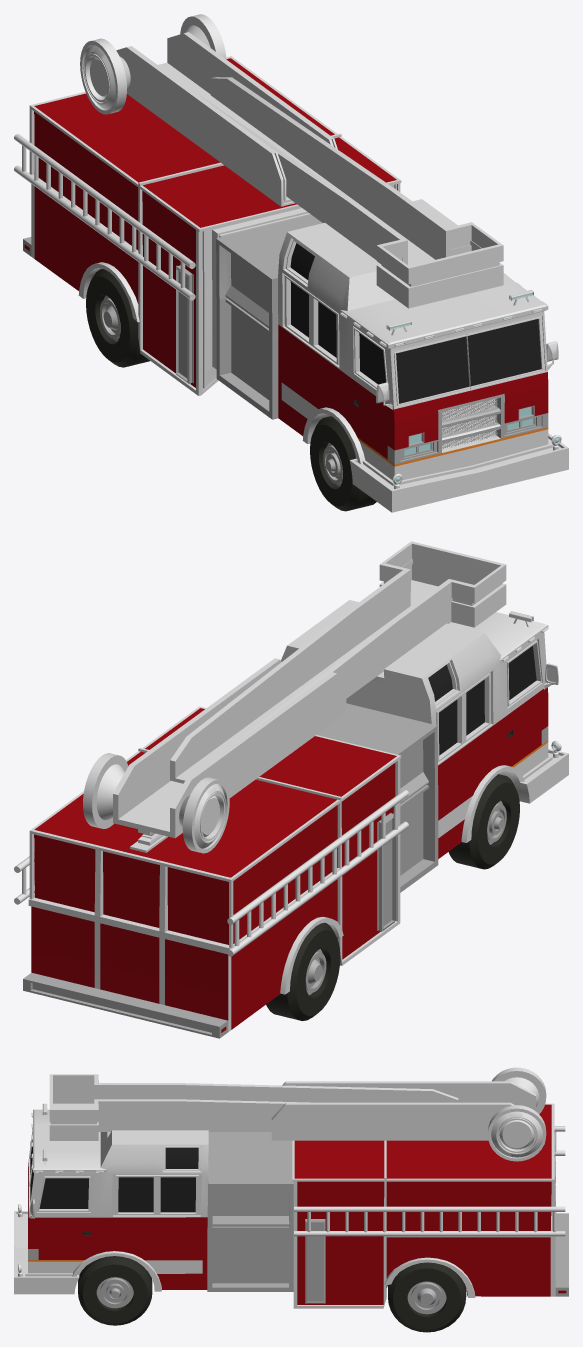
File: fire truck.fbx
3 renders of one model, top to bottom at view 1: azimuth 30°, elevation 25°; view 2: azimuth 150°, elevation 25°; view 3: azimuth 270°, elevation 25°, orthographic. The views are drawn at different scales.
Parts seen in each view (by area): view 1: Cube.003, Cube.005, Cube, Grid; view 2: Cube.003, Cube.005, Cube; view 3: Cube.003, Cube, Cube.005.
Part boxes in pixels (x1,y1,x2,y2): Cube.003: (14, 56, 568, 512); Cube.005: (195, 77, 503, 308); Cube: (80, 14, 337, 206); Grid: (442, 398, 497, 449); Cube.003: (14, 600, 568, 1038); Cube.005: (170, 541, 506, 783); Cube: (83, 658, 346, 853); Cube.003: (14, 1103, 568, 1332); Cube: (271, 1067, 546, 1161); Cube.005: (49, 1074, 458, 1140).
Size of the model in its own units: 322 by 377 by 914.
